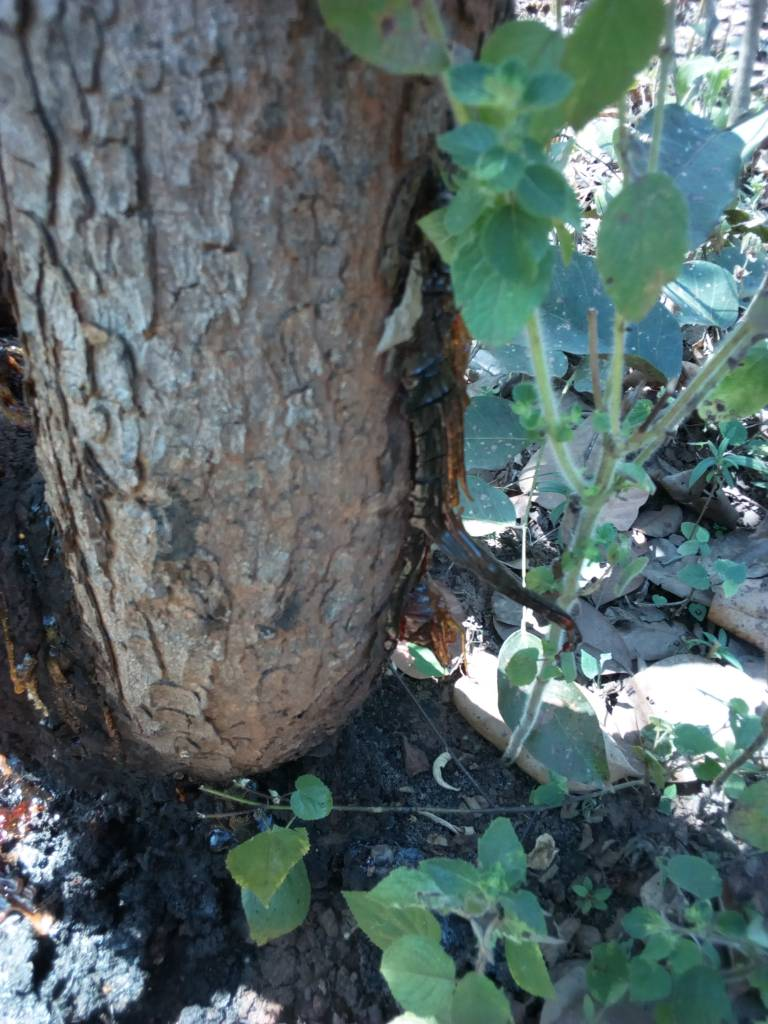Gommose: (1, 424, 115, 755), (400, 272, 491, 591)
